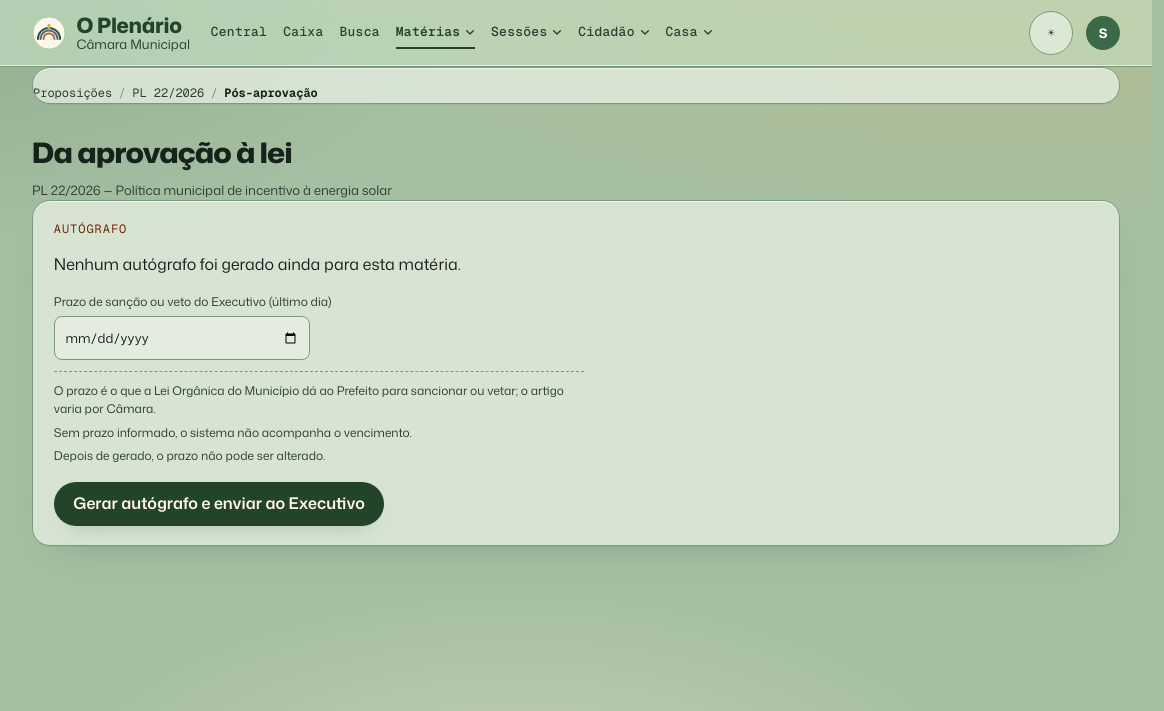
Test: ConteudoPosAprovacao › o prazo escolhido vai no POST (fim do dia, fuso da Casa) e a tela mostra até quando o Executivo tem
Check: the button "Gerar autógrafo e enviar ao Executivo" is shown, box 54,482 -> 384,526
Step 1. Type "2098-12-31" into the date field labelled "Prazo de sanção ou veto do Executivo (último dia)" → (182,338), box 54,316 -> 310,360
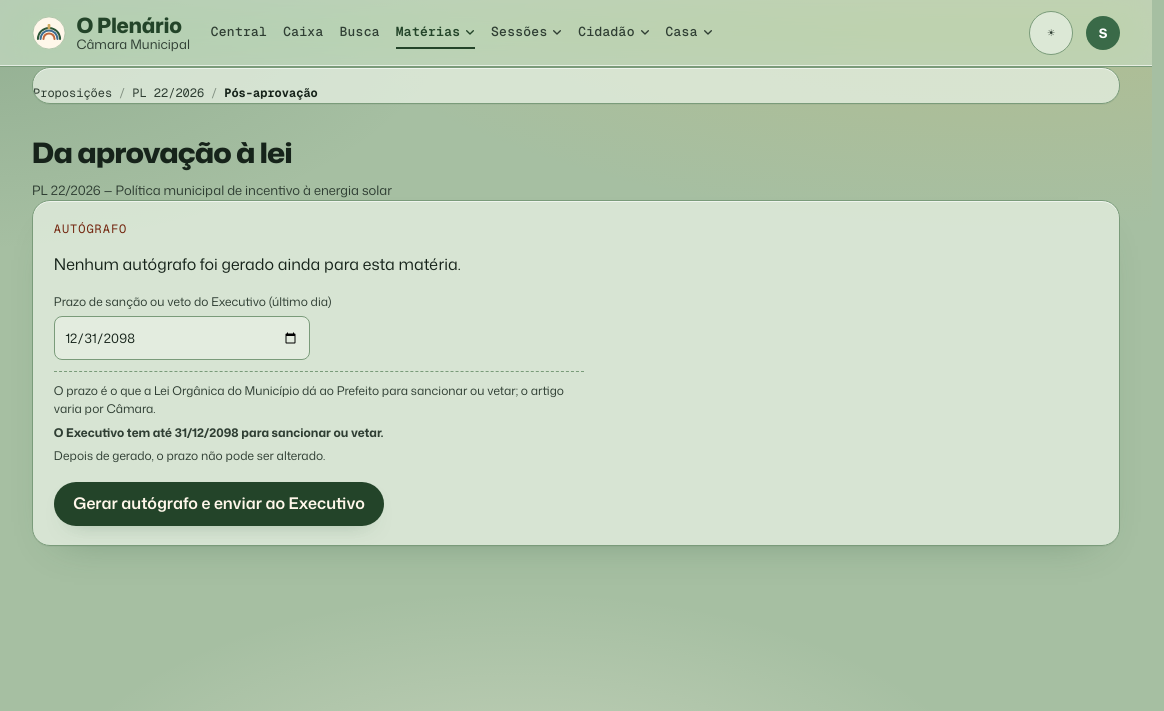
Step 2. Click the button "Gerar autógrafo e enviar ao Executivo" → (219,504), box 54,482 -> 384,526
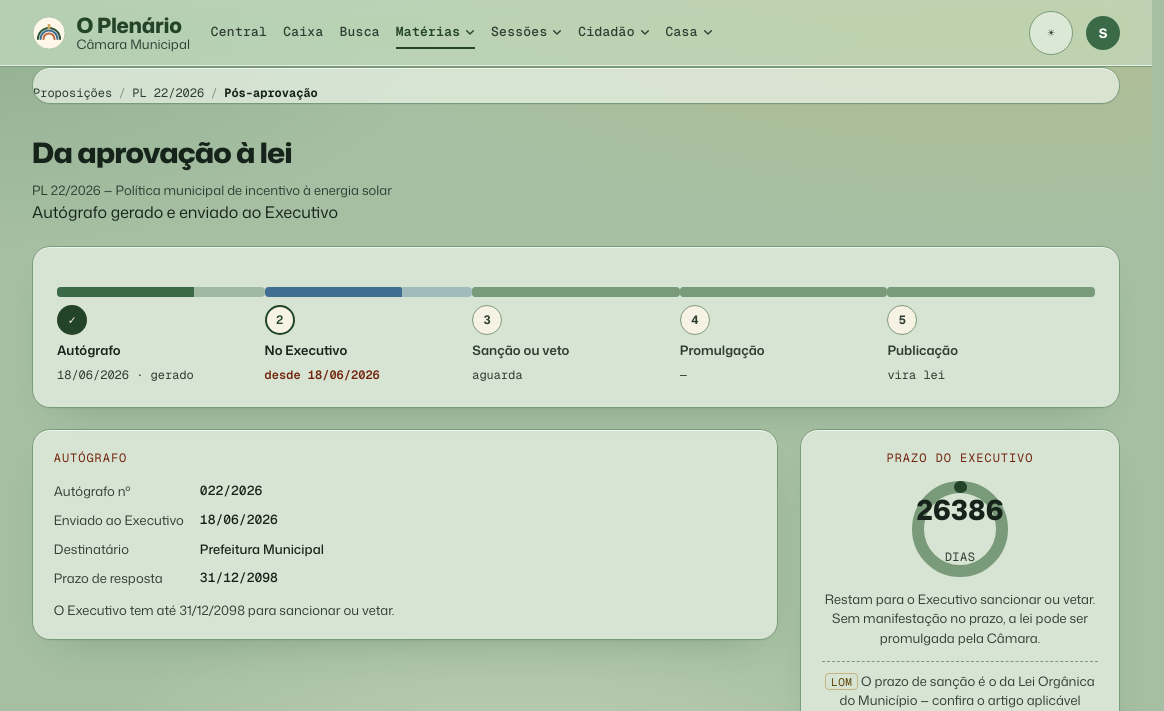
Check: the text "O Executivo tem até 31/12/2098 para sancionar ou vetar." is shown, box 54,601 -> 394,619
Check: the list named "etapas da sanção" is shown, box 57,269 -> 1095,385
